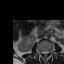CCS_normal: (44, 48, 46, 57)
LFS_normal: (48, 48, 50, 54)
LLS_normal: (46, 48, 48, 56)
RFS_normal: (40, 49, 42, 55)
RLS_normal: (42, 49, 44, 56)
